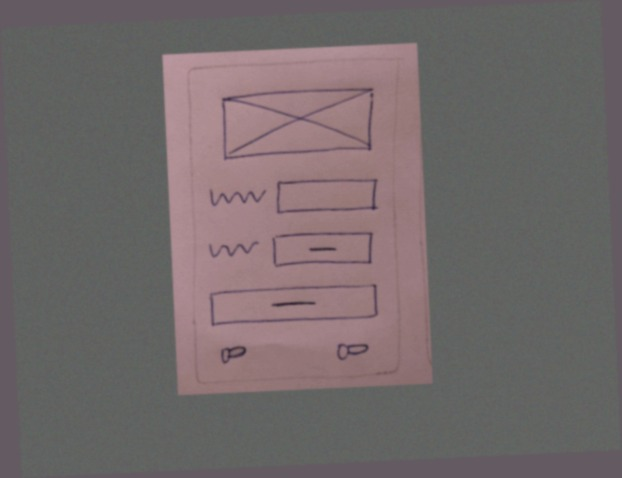button: (204, 280, 382, 329), (271, 228, 375, 273)
image: (219, 84, 380, 166)
switch: (335, 338, 371, 365), (217, 342, 252, 369)
text: (200, 232, 270, 265), (202, 182, 271, 214)
text_input: (273, 173, 385, 219)
